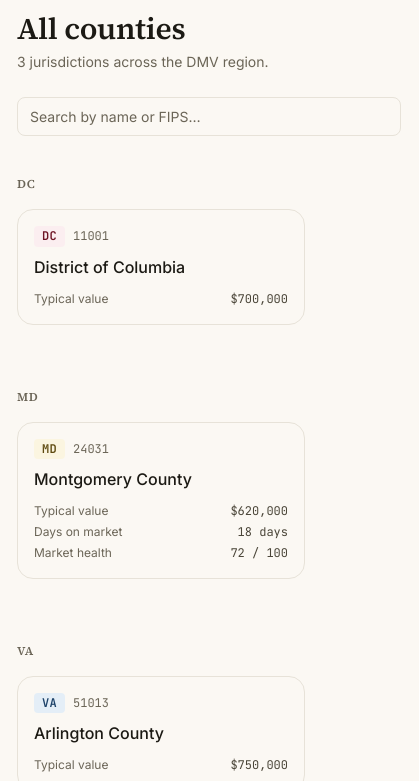
Test case: Counties page › filters counties by search query
The width and height of the screenshot is (419, 781).
Type "mont" into the search field at (209, 117), box [17,97,401,136]
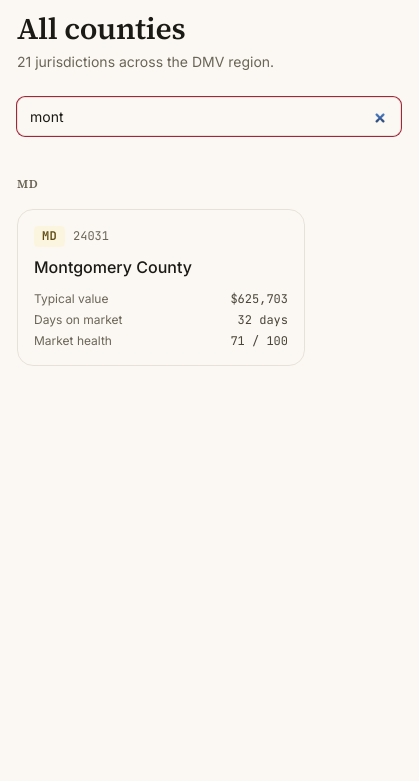
Expected: the text "Montgomery County" is shown, [34,257,192,277]
Result: the link "District of Columbia" is gone
Result: the link "Arlington County" is gone
